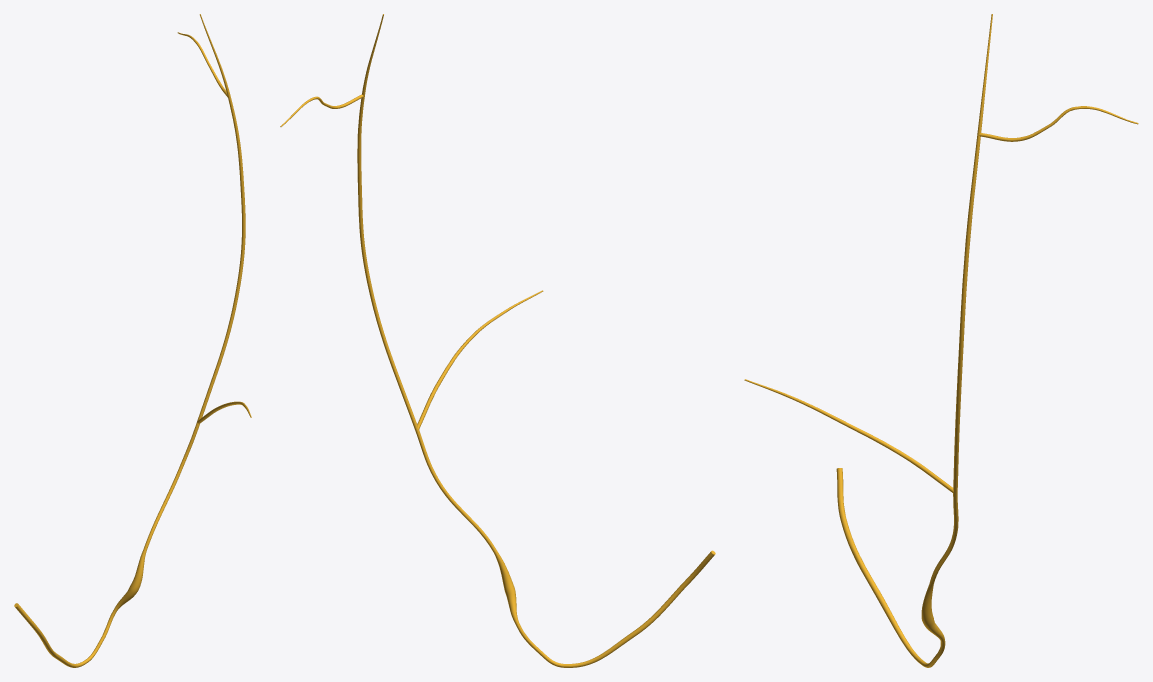
Rendered from nervoso-meningeal-branch-of-maxillary-nerve-l.glb.
3 renders of one model, left to right at view 1: azimuth 30°, elevation 25°; view 2: azimuth 150°, elevation 25°; view 3: azimuth 270°, elevation 25°, orthographic. The views are drawn at different scales.
Visible parts, largest first — view 1: Meningeal branch of maxillary nerve.l; view 2: Meningeal branch of maxillary nerve.l; view 3: Meningeal branch of maxillary nerve.l.
Boxes of the visible parts, x1=… form: Meningeal branch of maxillary nerve.l: x1=14, y1=14, x2=251, y2=667; Meningeal branch of maxillary nerve.l: x1=280, y1=14, x2=715, y2=667; Meningeal branch of maxillary nerve.l: x1=744, y1=14, x2=1138, y2=667.
Bounding box in the file's own units: 0.0536 × 0.107 × 0.0518.
